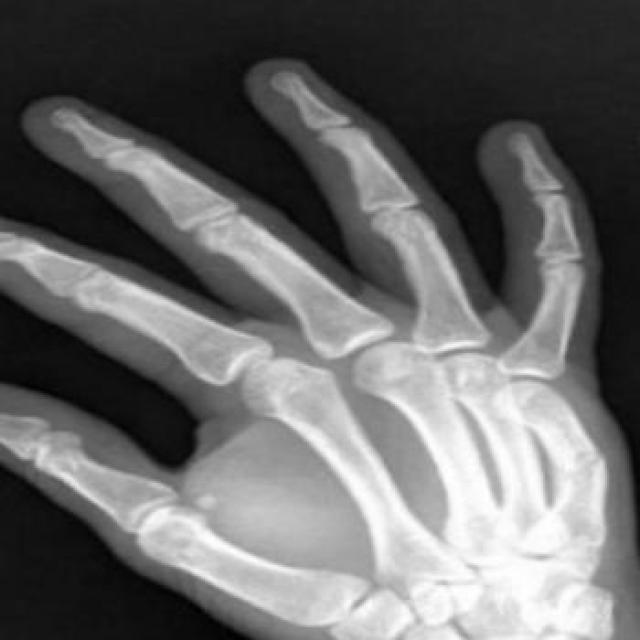Fracture: (554, 446, 618, 486)
